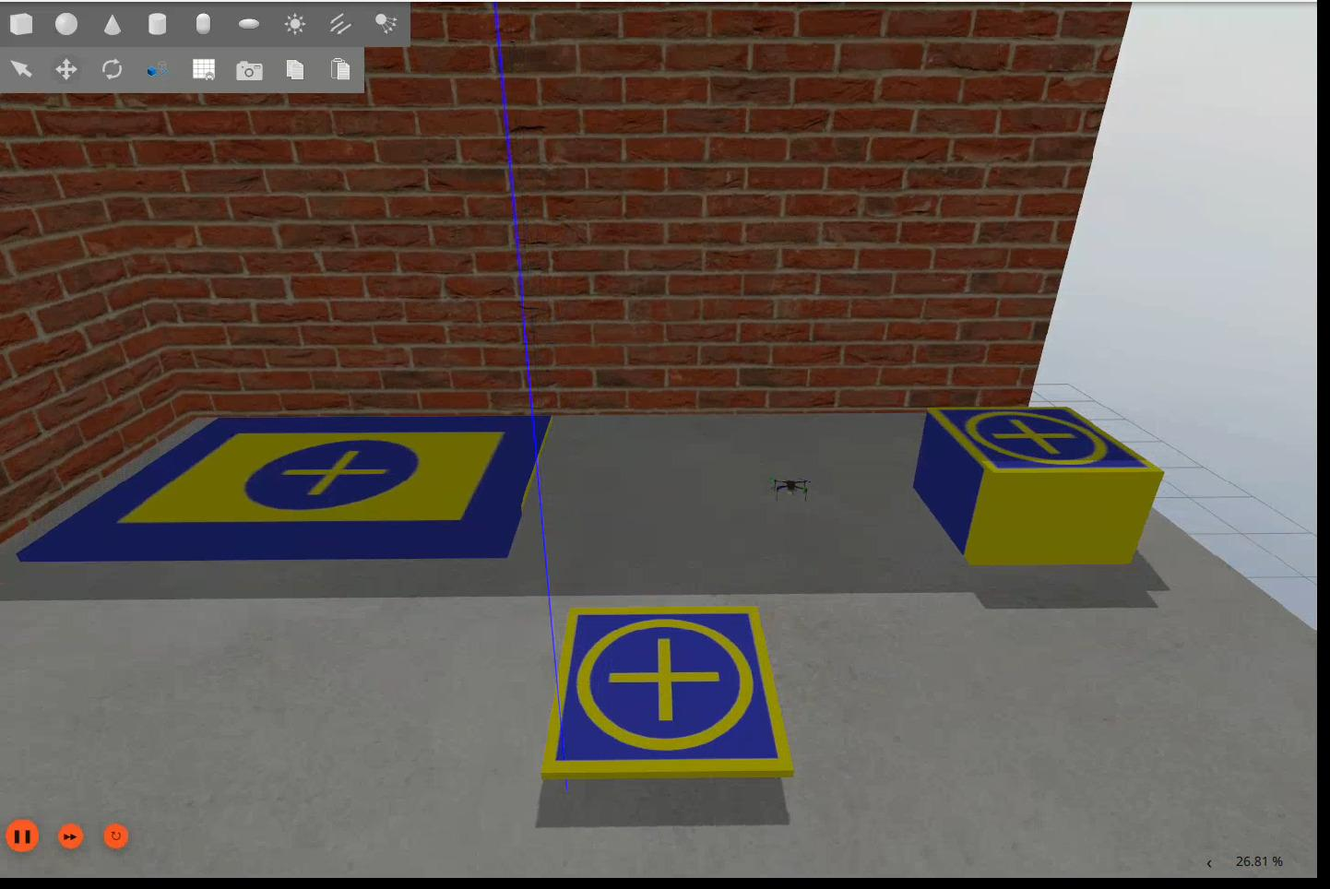large_base: (22, 414, 551, 563)
small_base: (544, 605, 799, 781), (927, 410, 1166, 481)
